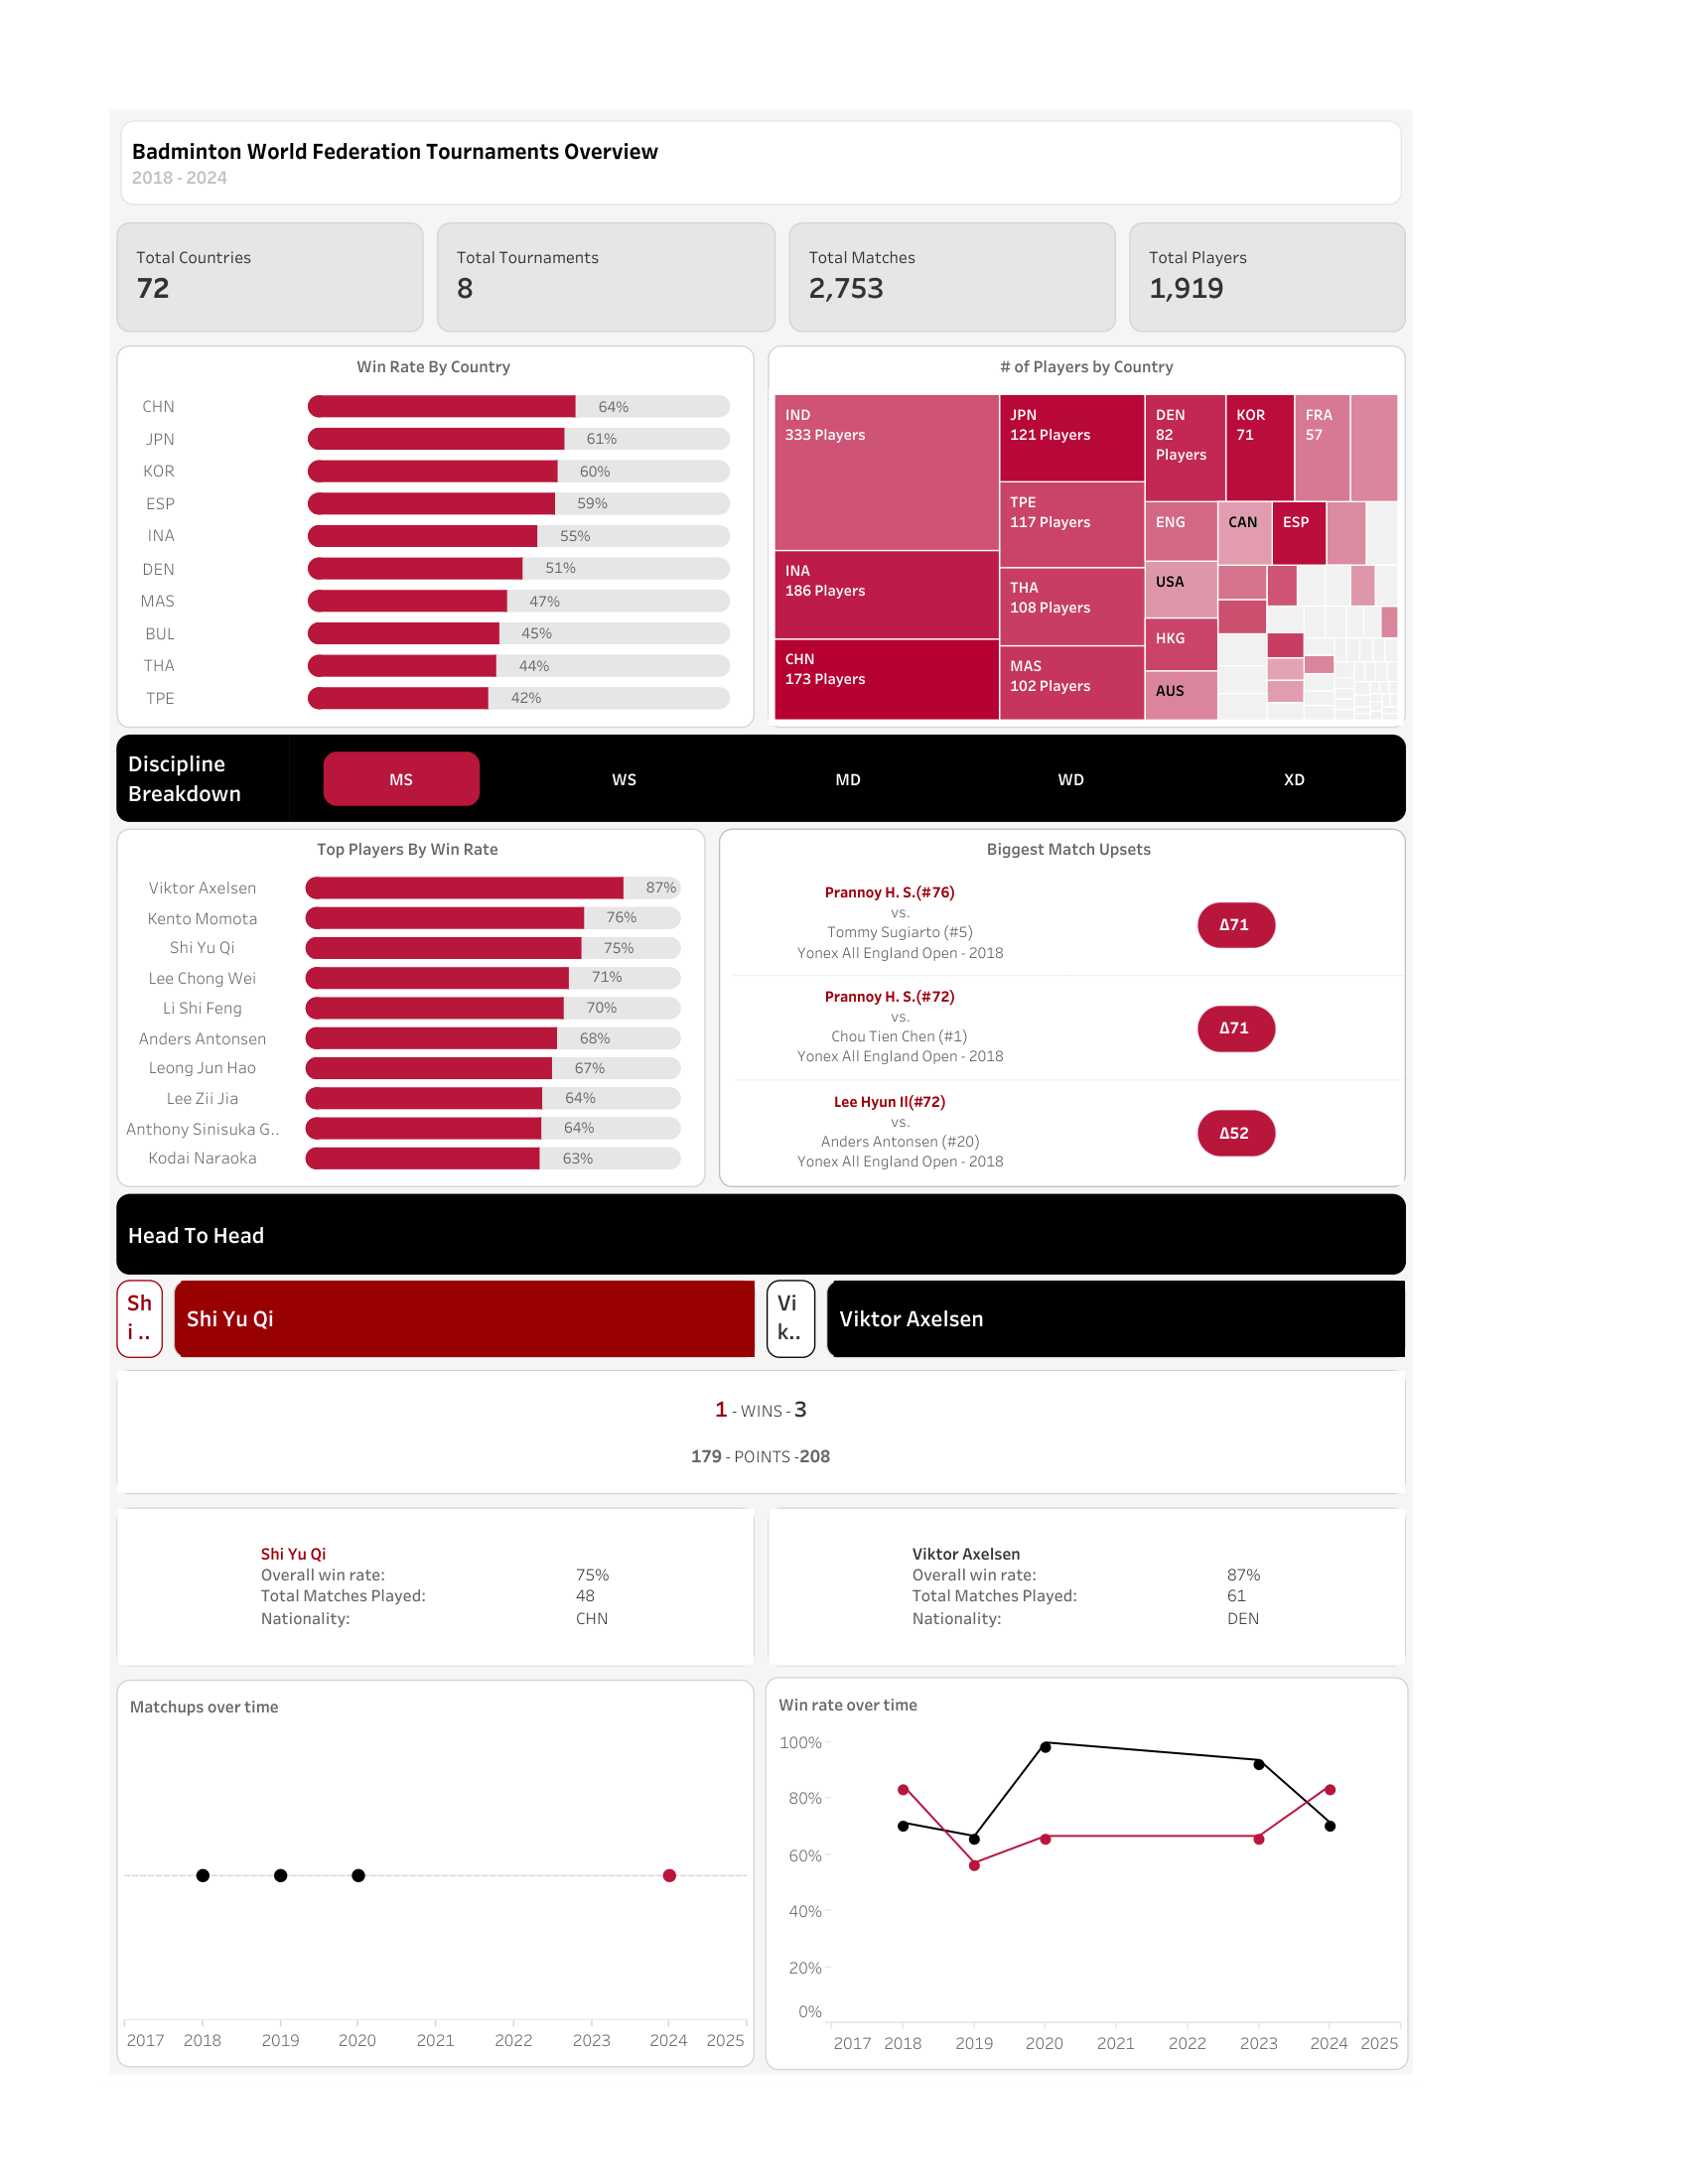

This screenshot's page, from the dashboard's own definition file:
{"tool":"tableau","page":{"name":"Tournament V2","canvas":[1000,1500],"ordinal":1},"visuals":[{"type":"text","box":[8,8,984,80]},{"type":"worksheet","title":"KPI - TC","mark":"Automatic","box":[8,88,242,93]},{"type":"worksheet","title":"KPI - TT","mark":"Automatic","box":[250,88,266,93]},{"type":"worksheet","title":"KPI - TM","mark":"Automatic","box":[516,88,257.3,93]},{"type":"worksheet","title":"KPI - TP","mark":"Automatic","box":[773.3,88,218.7,93]},{"type":"worksheet","title":"WIN RATE - C","mark":"Line","rows":["Nationality","Calculation_0254994069909538"],"box":[8,181,492,299.4]},{"type":"worksheet","title":"Country Plot","mark":"Square","box":[500,181,492,299.4]},{"type":"text","box":[8,480.4,136,65.5]},{"type":"worksheet","title":"Filter","mark":"Shape","cols":["Discipline"],"box":[144,480.4,848,65.5]},{"type":"worksheet","title":"WIN RATE - P","mark":"Line","rows":["Player Name"],"box":[8,546,455,281.3]},{"type":"worksheet","title":"Upsets","mark":"Text","rows":["Match ID (match_players)"],"cols":["Calculation_3248827666354204","Calculation_3248827667095582"],"box":[463,546,529,281.3]},{"type":"text","box":[8,827.3,984,60.7]},{"type":"parameter","param":"[Parameters].[Parameter 0254994482085952]","box":[8,888,44,67]},{"type":"worksheet","title":"H2H - P1","mark":"Automatic","box":[52,888,448,67]},{"type":"parameter","param":"[Parameters].[Parameter 0254994482352194]","box":[500,888,45,67]},{"type":"worksheet","title":"H2H - P2","mark":"Automatic","box":[545,888,447,67]},{"type":"worksheet","title":"H2H -KPI","mark":"Automatic","box":[8,955,984,104]},{"type":"worksheet","title":"H2H - Profile 1","mark":"Text","cols":["Calculation_3248827629260807"],"box":[8,1059,492,130]},{"type":"worksheet","title":"H2H - Profile 2","mark":"Text","cols":["Calculation_3248827629293577"],"box":[500,1059,492,130]},{"type":"worksheet","title":"H2H Timeline","mark":"Circle","rows":["Calculation_2739134953852933"],"cols":["Tournament Date"],"box":[8,1189,492,303]},{"type":"worksheet","title":"H2H Win Rate","mark":"Line","cols":["Tournament Date (match_players)"],"box":[500,1189,492,303]}]}

Visuals, with their boxes on the page's 1000x1500 design canvas (x1, y1, x2, y2). These are canvas units, not pixel positions in the 1688x2184 screenshot, which may show the page scaled, cropped or inside an application window:
text: (8, 8, 992, 88)
"KPI - TC" worksheet: (8, 88, 250, 181)
"KPI - TT" worksheet: (250, 88, 516, 181)
"KPI - TM" worksheet: (516, 88, 773, 181)
"KPI - TP" worksheet: (773, 88, 992, 181)
"WIN RATE - C" worksheet (Line marks): (8, 181, 500, 480)
"Country Plot" worksheet (Square marks): (500, 181, 992, 480)
text: (8, 480, 144, 546)
"Filter" worksheet (Shape marks): (144, 480, 992, 546)
"WIN RATE - P" worksheet (Line marks): (8, 546, 463, 827)
"Upsets" worksheet (Text marks): (463, 546, 992, 827)
text: (8, 827, 992, 888)
parameter: (8, 888, 52, 955)
"H2H - P1" worksheet: (52, 888, 500, 955)
parameter: (500, 888, 545, 955)
"H2H - P2" worksheet: (545, 888, 992, 955)
"H2H -KPI" worksheet: (8, 955, 992, 1059)
"H2H - Profile 1" worksheet (Text marks): (8, 1059, 500, 1189)
"H2H - Profile 2" worksheet (Text marks): (500, 1059, 992, 1189)
"H2H Timeline" worksheet (Circle marks): (8, 1189, 500, 1492)
"H2H Win Rate" worksheet (Line marks): (500, 1189, 992, 1492)
